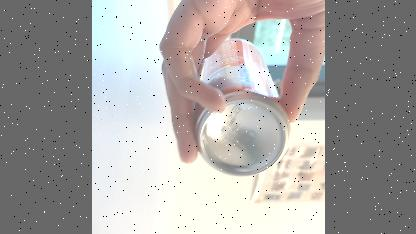Can: (150, 31, 290, 182)
